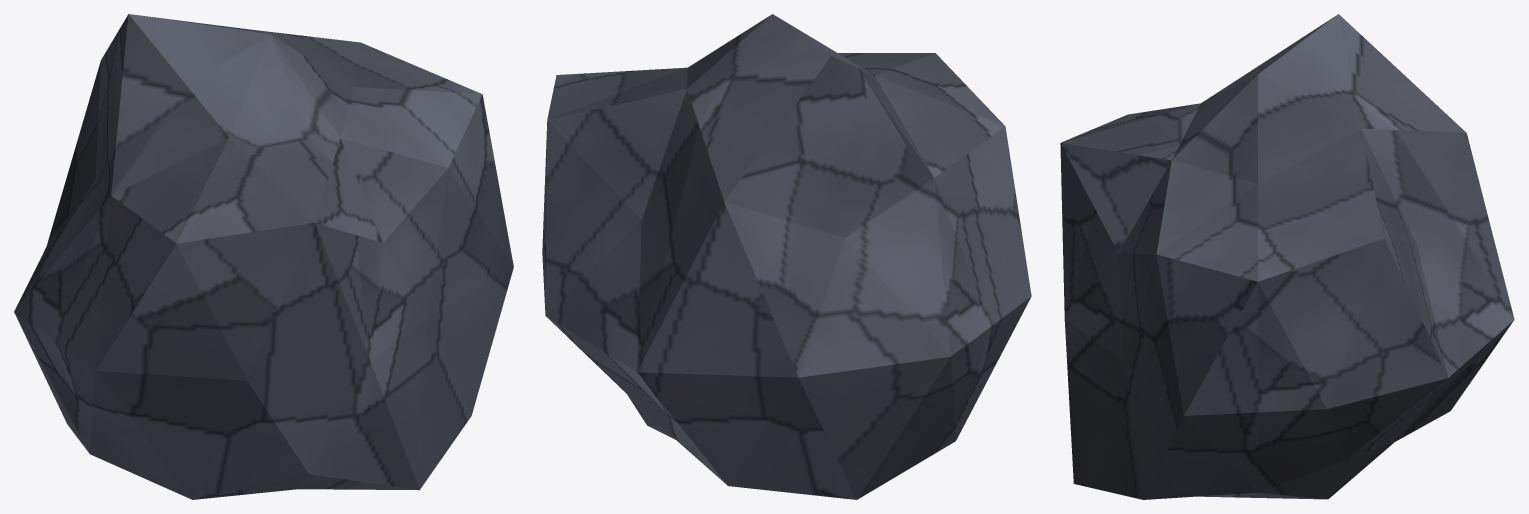
The model's file is Rock_S3.glb.
The picture shows the model from 3 angles, left to right: view 1: azimuth 30°, elevation 25°; view 2: azimuth 150°, elevation 25°; view 3: azimuth 270°, elevation 25°; orthographic projection. The views are drawn at different scales.
Parts seen in each view (by area): view 1: Rock_S3; view 2: Rock_S3; view 3: Rock_S3.
Part boxes in pixels (x1,y1,x2,y2): Rock_S3: (14, 14, 513, 499); Rock_S3: (542, 14, 1031, 499); Rock_S3: (1060, 14, 1514, 499).
Size of the model in its own units: 0.6147 by 0.5666 by 0.5864.
1 material, 1 textured.
